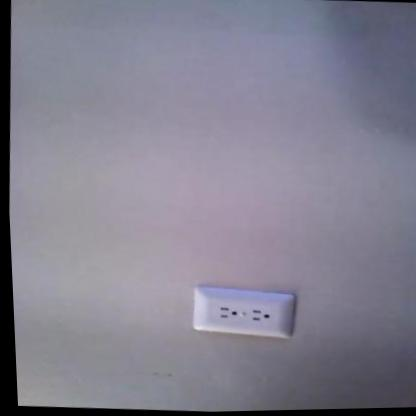OUTLET: (192, 287, 295, 336)
